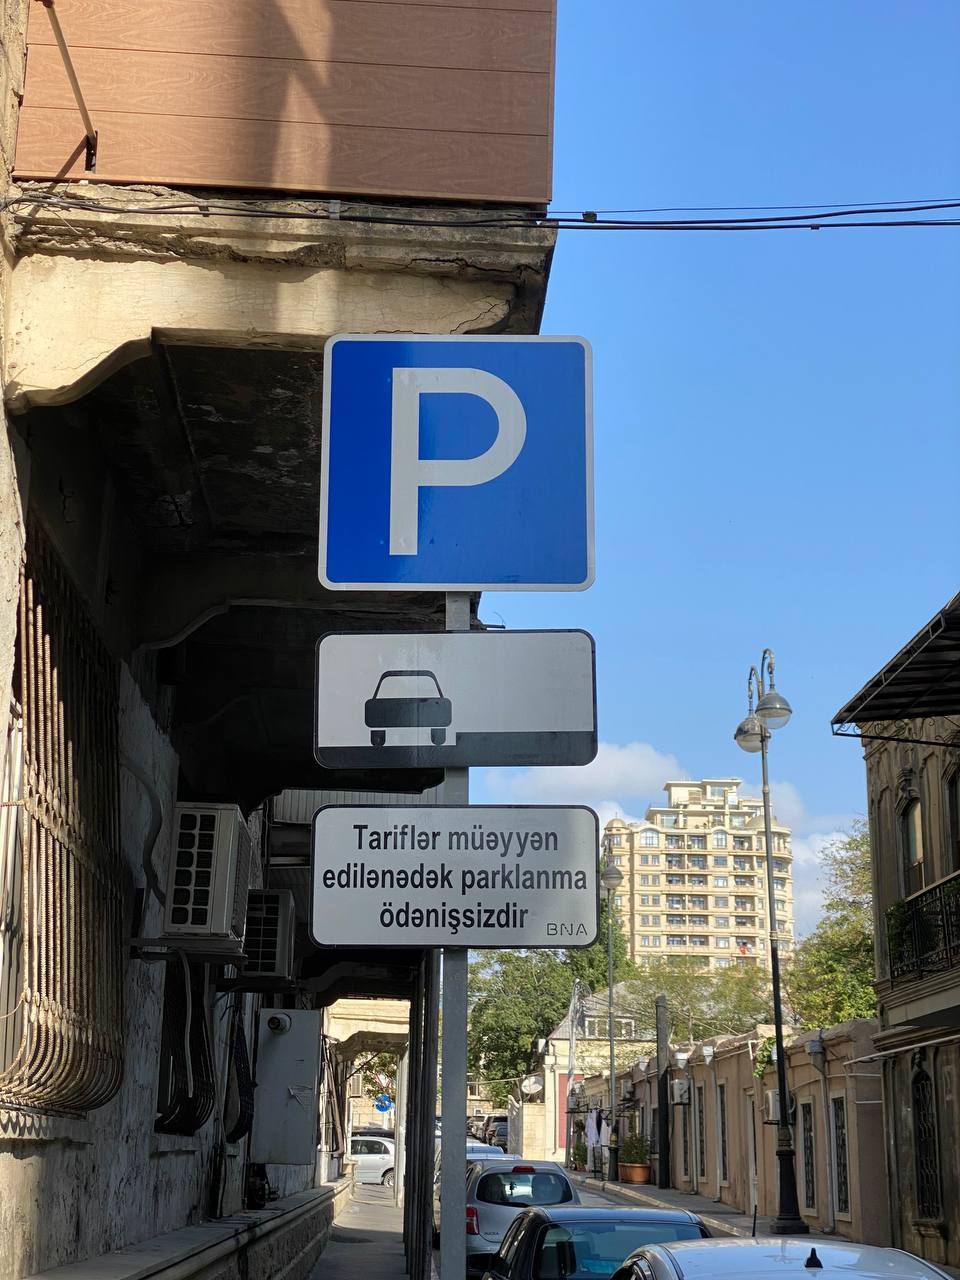Parking-Sign: (319, 334, 594, 591)
